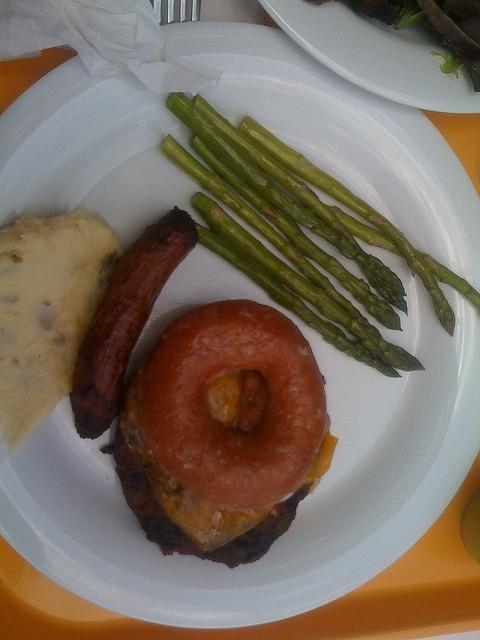asparagus: (164, 92, 406, 297), (238, 116, 457, 338), (162, 134, 382, 340), (188, 135, 404, 332), (191, 191, 392, 366), (196, 223, 403, 378), (190, 93, 367, 255), (322, 203, 479, 312)
